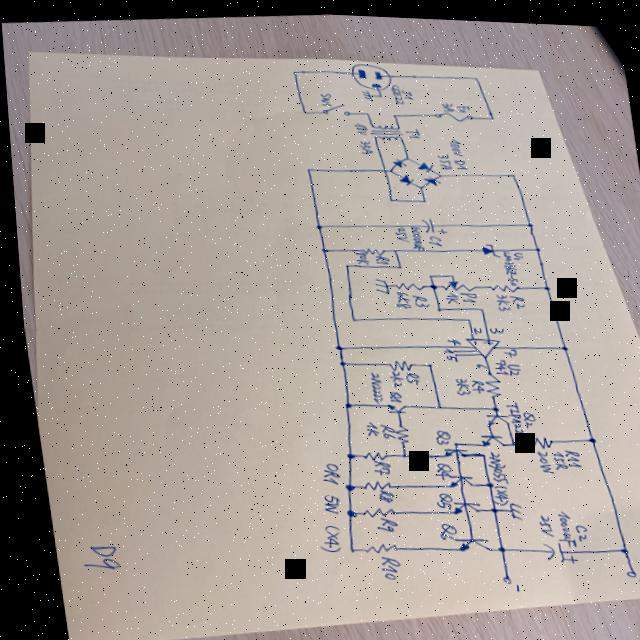capacitor: (533, 532, 572, 559), (418, 211, 445, 231)
crossover: (380, 163, 384, 168)
diode: (476, 236, 495, 252), (394, 168, 413, 182), (414, 156, 433, 169), (390, 153, 405, 164), (421, 171, 439, 180)
ground: (499, 496, 517, 516), (368, 271, 386, 291), (360, 85, 372, 97)
junction: (335, 478, 349, 488), (337, 504, 350, 514), (580, 429, 591, 439), (488, 538, 499, 548), (480, 501, 491, 511), (338, 447, 349, 456), (477, 474, 488, 483), (339, 542, 349, 551), (555, 338, 565, 346), (315, 242, 325, 250), (611, 540, 622, 547), (329, 340, 338, 348), (311, 219, 320, 227), (336, 398, 346, 405), (539, 278, 547, 286), (345, 311, 353, 319), (522, 215, 531, 222), (361, 105, 370, 112), (485, 400, 494, 407), (394, 447, 402, 454), (473, 300, 481, 307), (507, 166, 515, 173), (425, 278, 433, 285), (384, 191, 392, 198), (486, 109, 494, 115), (530, 241, 538, 247), (431, 301, 438, 307), (290, 65, 297, 71), (300, 105, 307, 111), (472, 70, 479, 76), (334, 356, 341, 362), (473, 447, 480, 453), (302, 163, 310, 168), (392, 260, 400, 265), (418, 193, 425, 198), (423, 268, 430, 273), (390, 108, 397, 113), (430, 400, 436, 405), (421, 358, 427, 362), (375, 89, 381, 93), (504, 436, 510, 440), (460, 313, 467, 316), (386, 164, 391, 168), (390, 243, 394, 247), (447, 436, 451, 440), (436, 169, 441, 172), (341, 259, 346, 262), (404, 151, 408, 154), (417, 180, 421, 183), (447, 270, 451, 272)
resistor: (476, 363, 498, 394), (435, 272, 473, 288), (519, 428, 550, 445), (356, 537, 392, 551), (353, 474, 386, 489), (352, 501, 390, 514), (382, 353, 409, 368), (355, 444, 382, 458), (390, 276, 421, 288), (483, 276, 514, 288), (388, 419, 404, 440), (361, 242, 381, 251)
switch: (319, 97, 350, 113)
terminal: (493, 568, 504, 579), (617, 562, 629, 571), (448, 348, 454, 352), (448, 344, 452, 348)
text: (479, 444, 504, 500), (308, 520, 336, 550), (497, 241, 516, 282), (547, 503, 567, 541), (498, 394, 519, 430), (368, 551, 394, 577), (362, 365, 380, 400), (313, 458, 335, 482), (313, 489, 335, 511), (528, 444, 547, 469), (529, 507, 548, 532), (404, 219, 422, 245), (429, 516, 451, 536), (426, 486, 447, 506), (366, 512, 390, 529), (543, 444, 562, 465), (426, 456, 448, 474), (446, 131, 464, 152), (365, 455, 386, 473), (389, 285, 407, 305), (433, 145, 451, 165), (489, 286, 507, 306), (448, 370, 465, 391), (558, 443, 576, 462), (389, 220, 406, 240), (486, 353, 504, 371), (382, 365, 398, 385), (515, 404, 531, 424), (427, 424, 445, 441), (566, 517, 582, 536), (406, 288, 425, 304), (316, 87, 333, 104), (505, 288, 523, 304), (369, 485, 389, 499), (373, 419, 390, 435), (349, 117, 367, 132), (358, 415, 373, 433), (390, 79, 402, 101), (464, 373, 480, 389), (399, 366, 416, 381), (439, 285, 457, 299), (454, 285, 473, 298), (356, 135, 372, 150), (368, 249, 388, 261), (350, 245, 366, 260), (501, 356, 517, 371), (423, 229, 441, 242), (451, 152, 466, 166), (404, 122, 420, 134), (482, 320, 501, 330), (439, 96, 456, 107), (451, 98, 469, 108), (508, 244, 522, 255), (498, 342, 513, 352), (399, 83, 412, 94), (630, 565, 640, 579), (360, 85, 371, 97), (467, 320, 480, 330), (442, 333, 456, 340), (438, 342, 450, 350), (442, 350, 452, 357), (470, 358, 481, 364), (478, 334, 488, 340), (506, 578, 512, 586), (468, 335, 472, 339)
transformer: (365, 114, 403, 139)
transistor: (444, 528, 484, 549), (442, 492, 476, 512), (470, 426, 500, 443), (440, 467, 468, 484), (379, 396, 405, 413), (476, 406, 504, 421), (436, 439, 462, 455)
